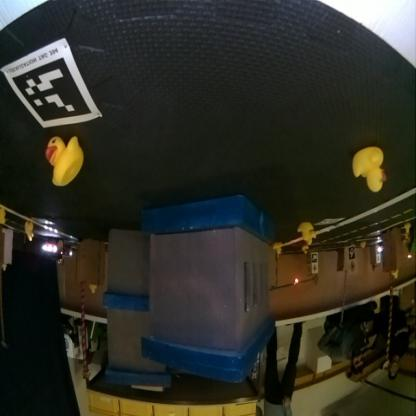Duckie: (46, 138, 81, 188), (352, 146, 386, 190), (297, 222, 312, 240), (24, 223, 33, 242), (272, 243, 282, 255), (87, 286, 96, 296), (404, 225, 410, 233), (391, 272, 397, 280)
Duckiebot: (42, 239, 70, 260), (377, 243, 383, 255)
Intersection sign: (350, 263, 356, 273), (312, 264, 317, 272)
QR code: (2, 40, 100, 128), (318, 220, 340, 228), (348, 247, 354, 260), (312, 254, 318, 262)
Traffic light: (294, 278, 298, 286)
